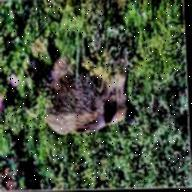boar: (31, 31, 135, 142)
